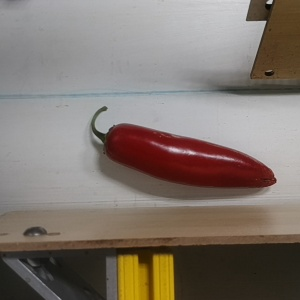Cut Point: (94, 120, 129, 160)
